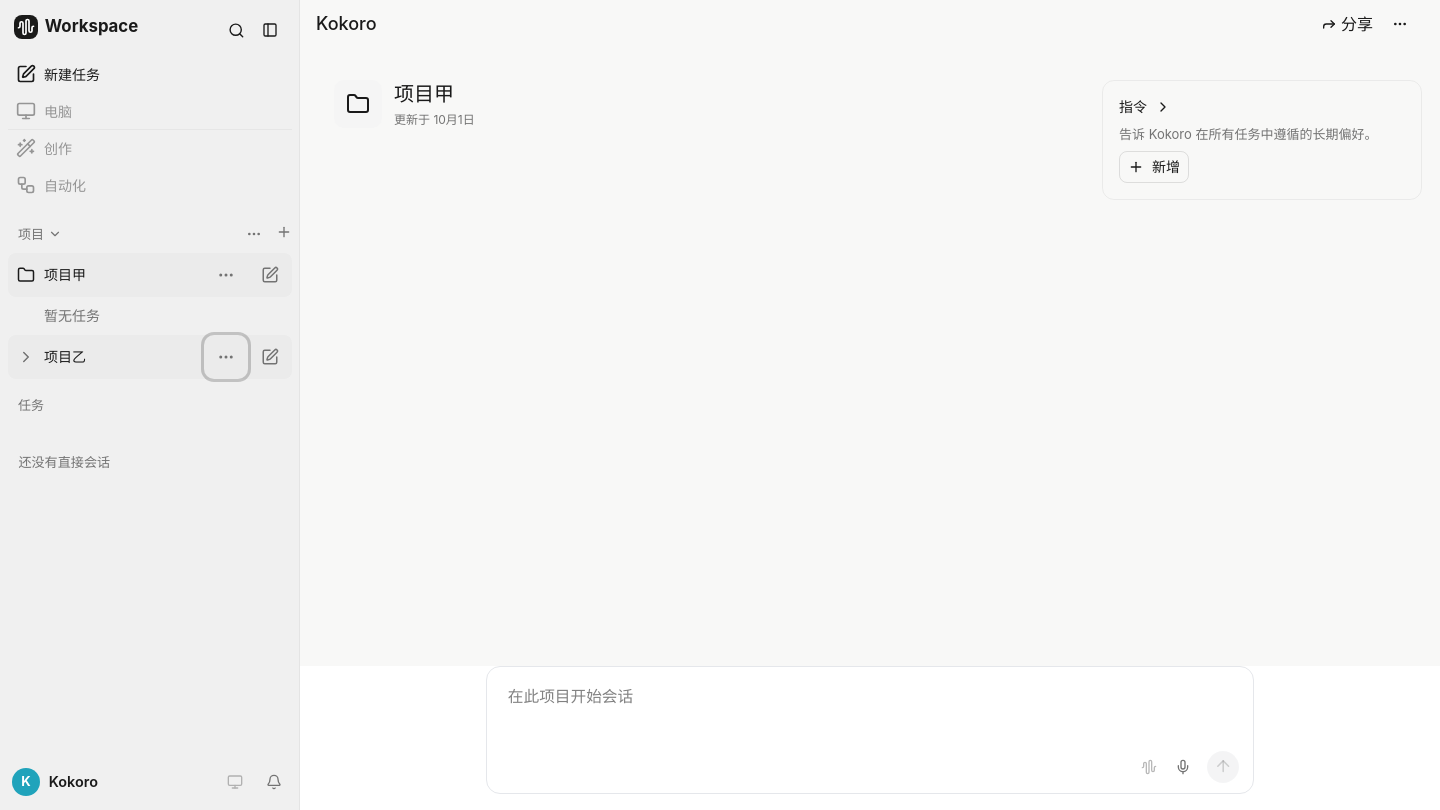
Test: 侧栏查看指定项目后复用顶部指令 editor，取消回到同一个顶部菜单按钮
Expected: the heading "项目甲" is shown, [394, 82, 454, 106]
Press ArrowDown in the 4th button named "项目选项", box [204, 335, 248, 379]
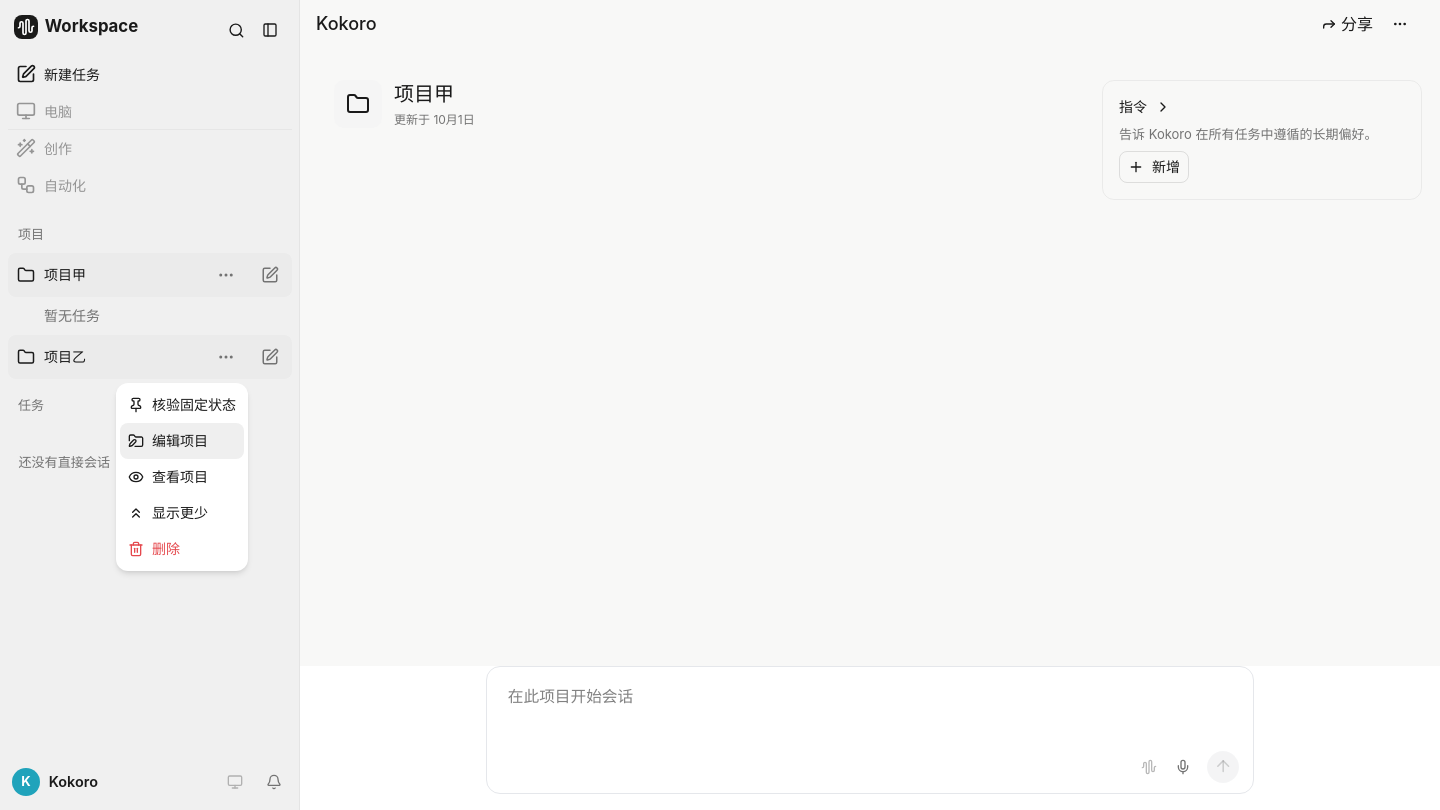
Expected: the menu item "编辑指令" is not shown
Click the menu item "查看项目". click: click(168, 476)
box: [128, 468, 208, 485]
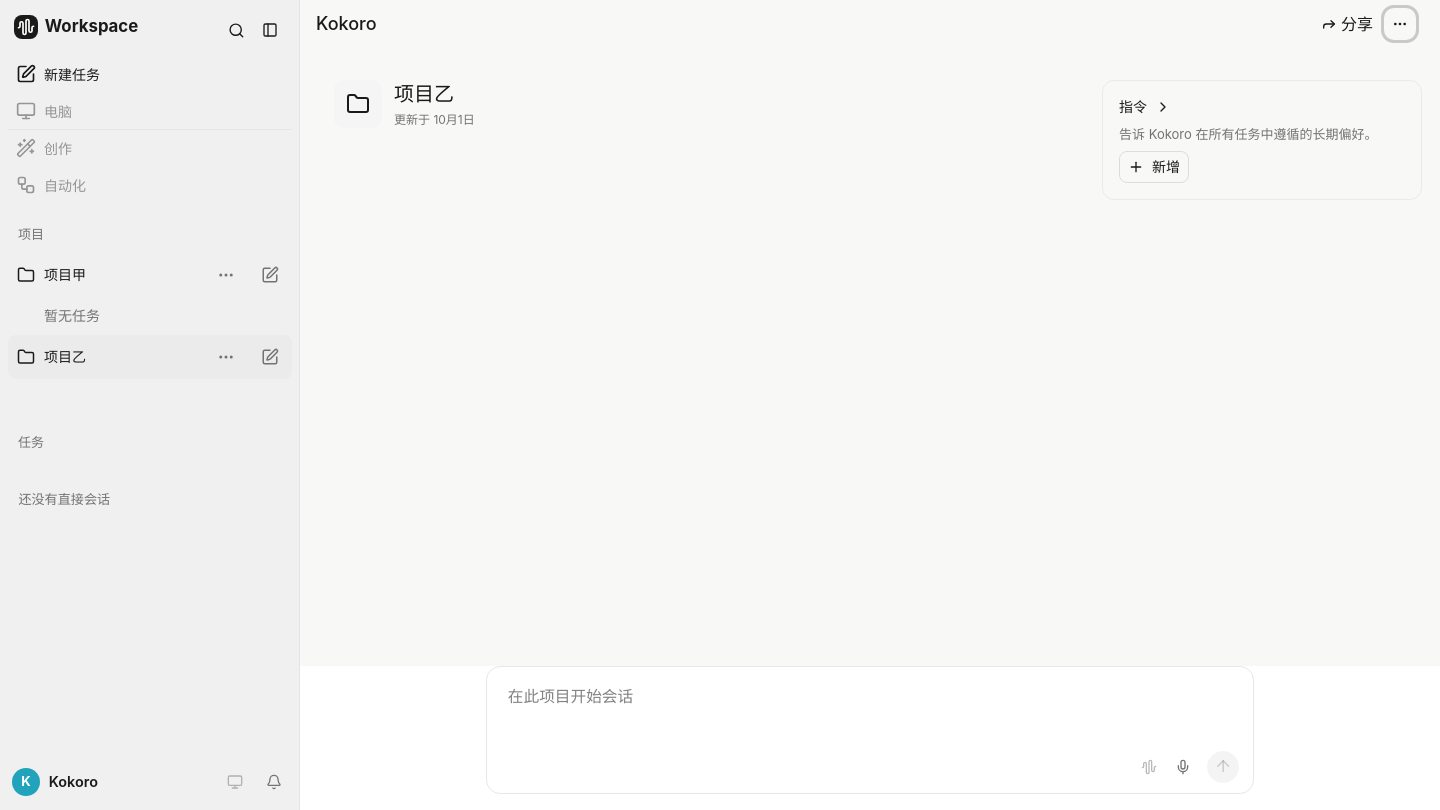
Expected: the heading "项目乙" is shown, [394, 82, 454, 106]
Press ArrowDown in the 1st button named "项目选项", box [1384, 8, 1416, 40]
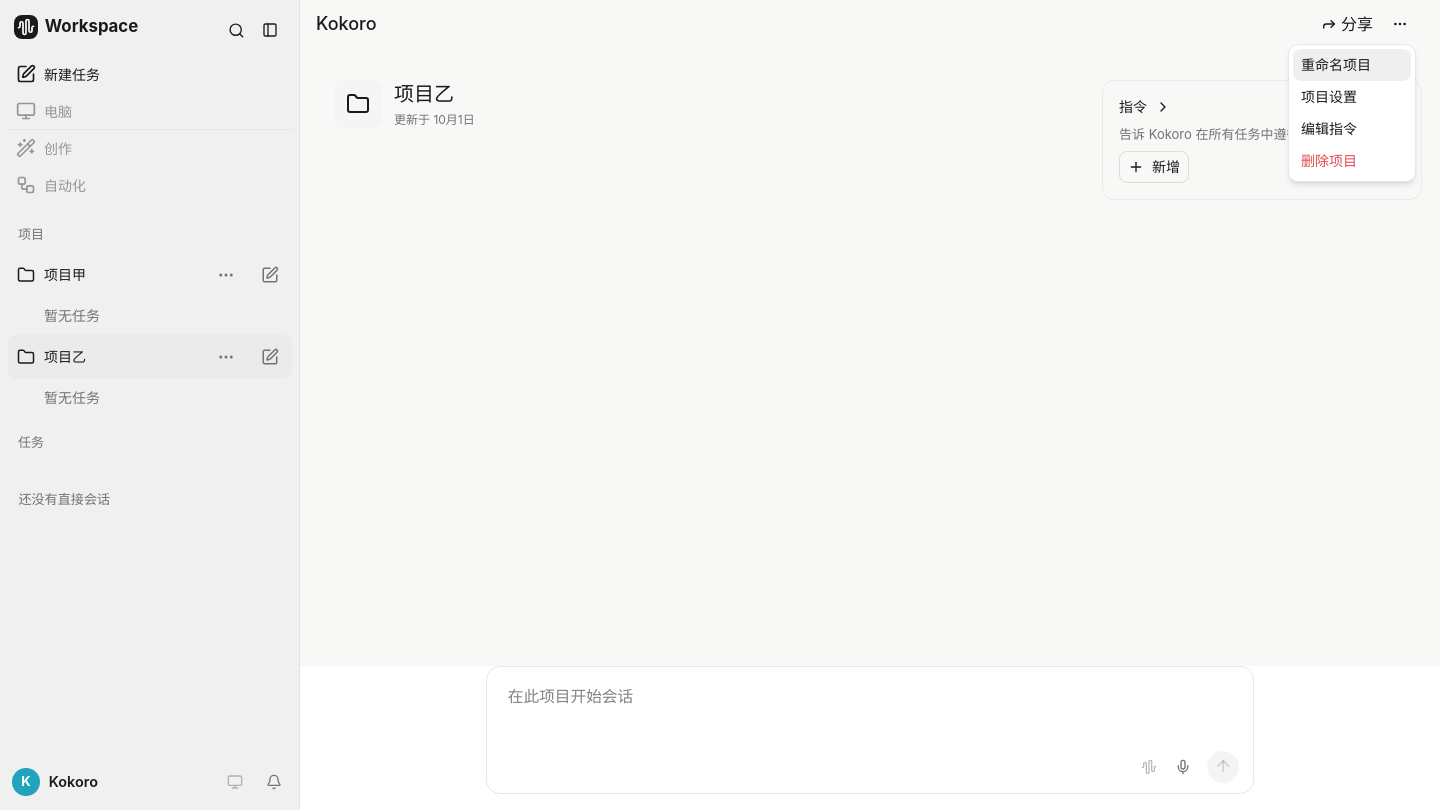
Click the menu item "编辑指令". click: click(1329, 128)
box: [1301, 120, 1357, 137]
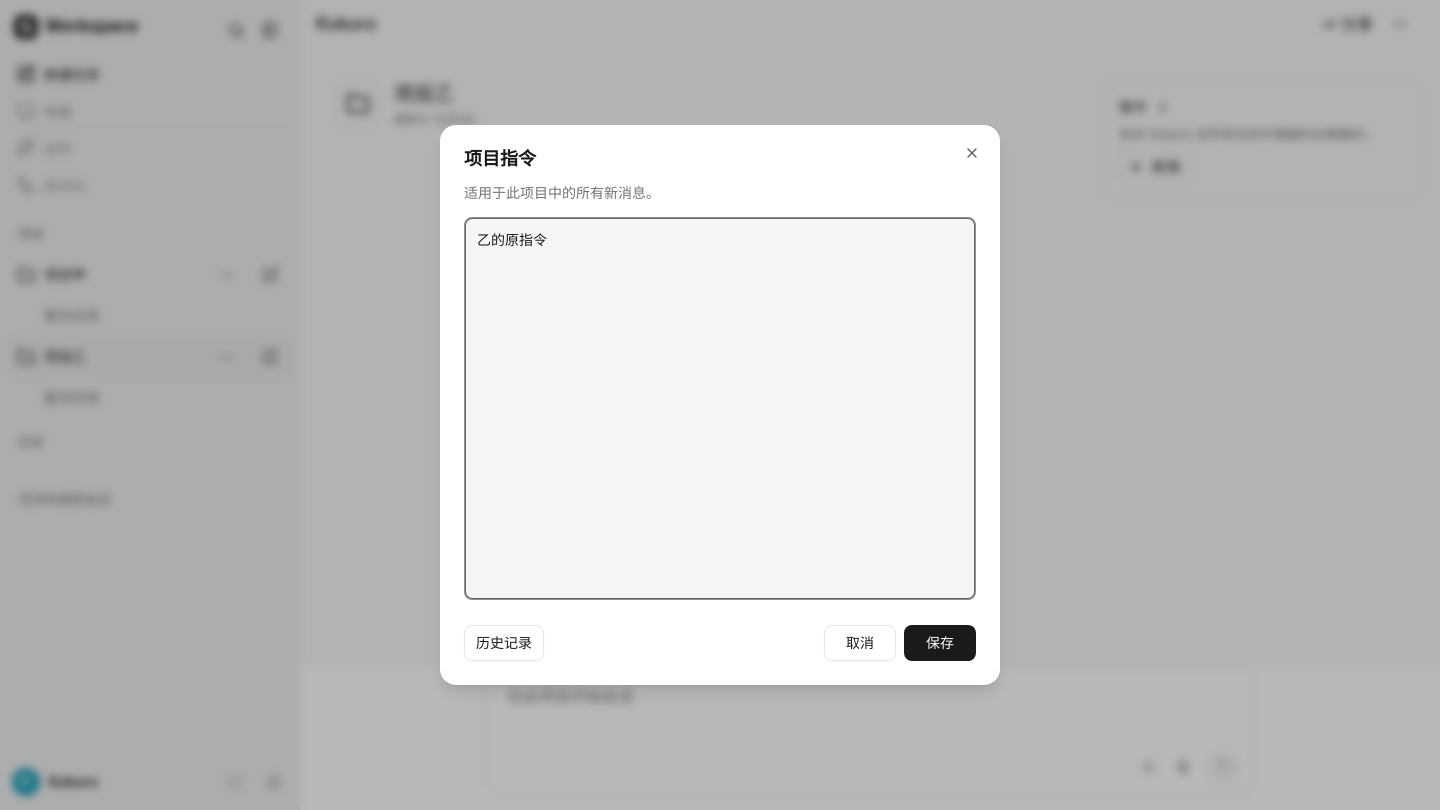
Expected: the text box holds "乙的原指令"
Press Escape in the text box, box [464, 217, 976, 600]
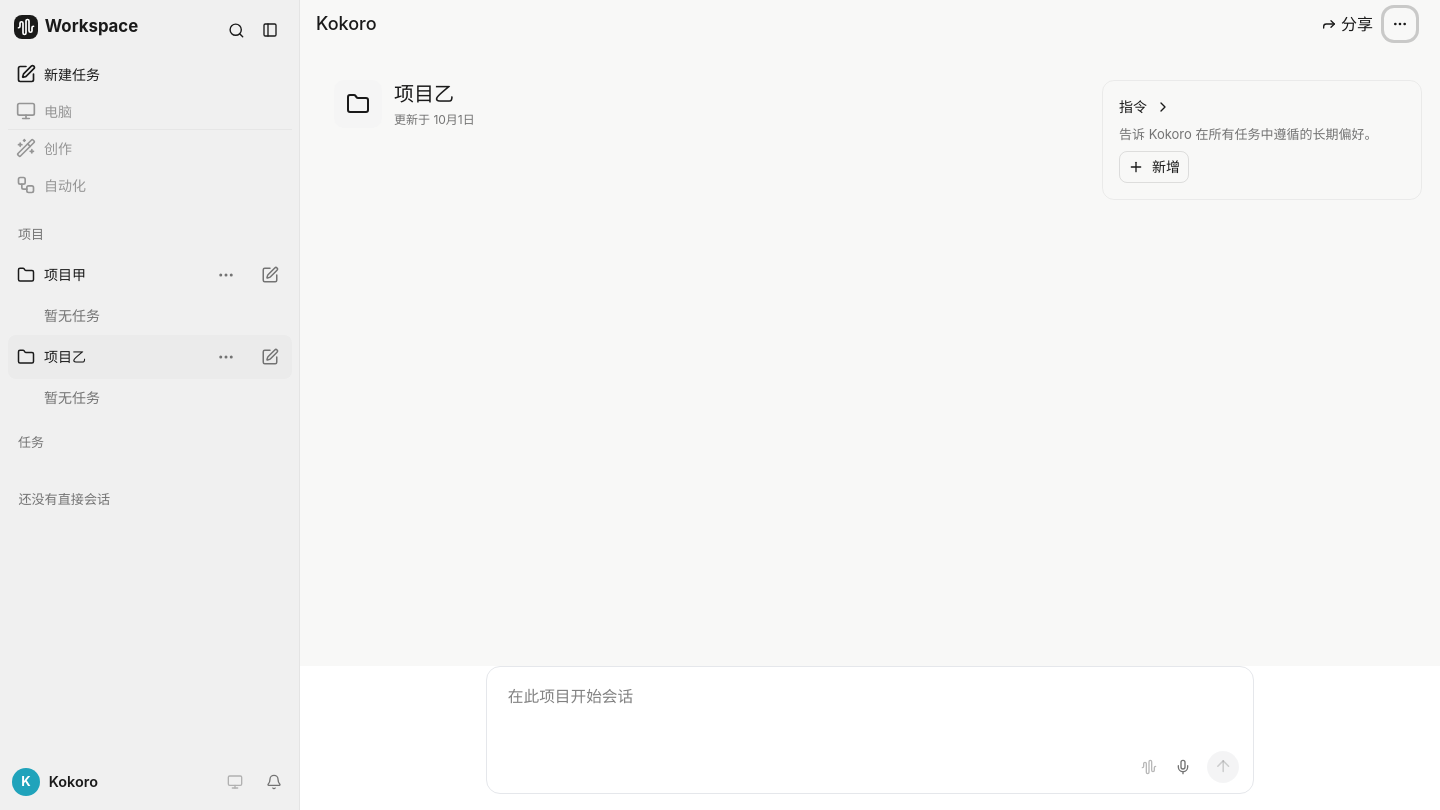
Expected: the heading "项目指令" is gone
